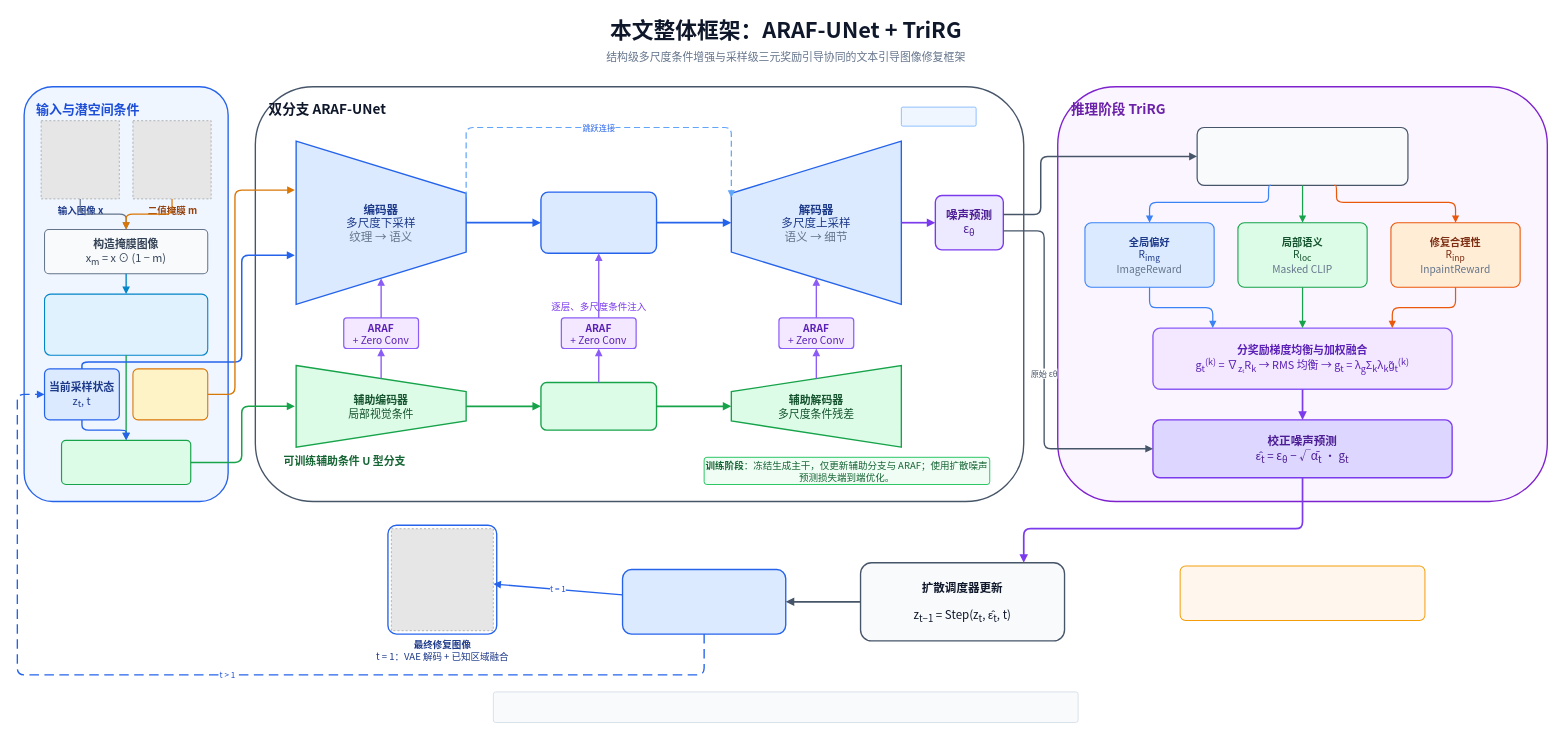
Image size: 1559x734. Some labels were removed from this diagram. Grey dashed boxes stand in for pictures. The shapes that lost their labels are listed below. From the top down, each one's centre as x and y in pixels, then its label:
the point at 938,116: 冻结主干
the point at 1302,156: 可微图像估计 x t 由 z t 与 ε θ 重建并经 VAE 解码
the point at 598,222: 瓶颈块 全局语义结构
the point at 126,324: 视觉条件预处理 VAE 编码与掩膜下采样 z m , m̃
the point at 170,394: 文本提示 c
the point at 598,405: 辅助瓶颈 结构上下文
the point at 126,462: 条件拼接 [z t , z m , m̃]
the point at 704,601: 下一步潜变量 z t−1
the point at 1302,593: TriRG 推理插件 每隔 K 个去噪步执行，无需额外训练
the point at 785,706: ■ 冻结生成主干 ■ 可训练辅助分支 ■ ARAF / TriRG ■ 奖励引导
